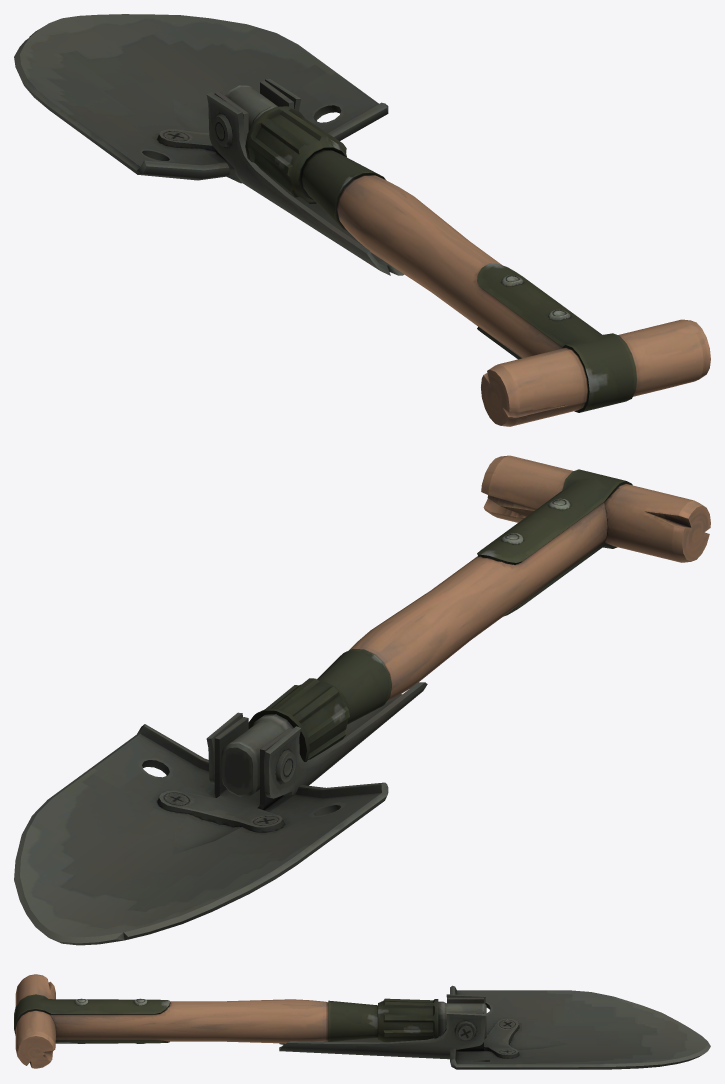
File: MarketGardener.fbx
3 renders of one model, top to bottom at view 1: azimuth 30°, elevation 25°; view 2: azimuth 150°, elevation 25°; view 3: azimuth 270°, elevation 25°, orthographic. The views are drawn at different scales.
Visible parts, largest first — view 1: c_market_gardener; view 2: c_market_gardener; view 3: c_market_gardener.
Part boxes in pixels (x1,y1,x2,y2): c_market_gardener: (14, 14, 710, 426); c_market_gardener: (14, 455, 710, 945); c_market_gardener: (14, 974, 710, 1069).
Bounding box in the file's own units: 996 × 346 × 3811.
